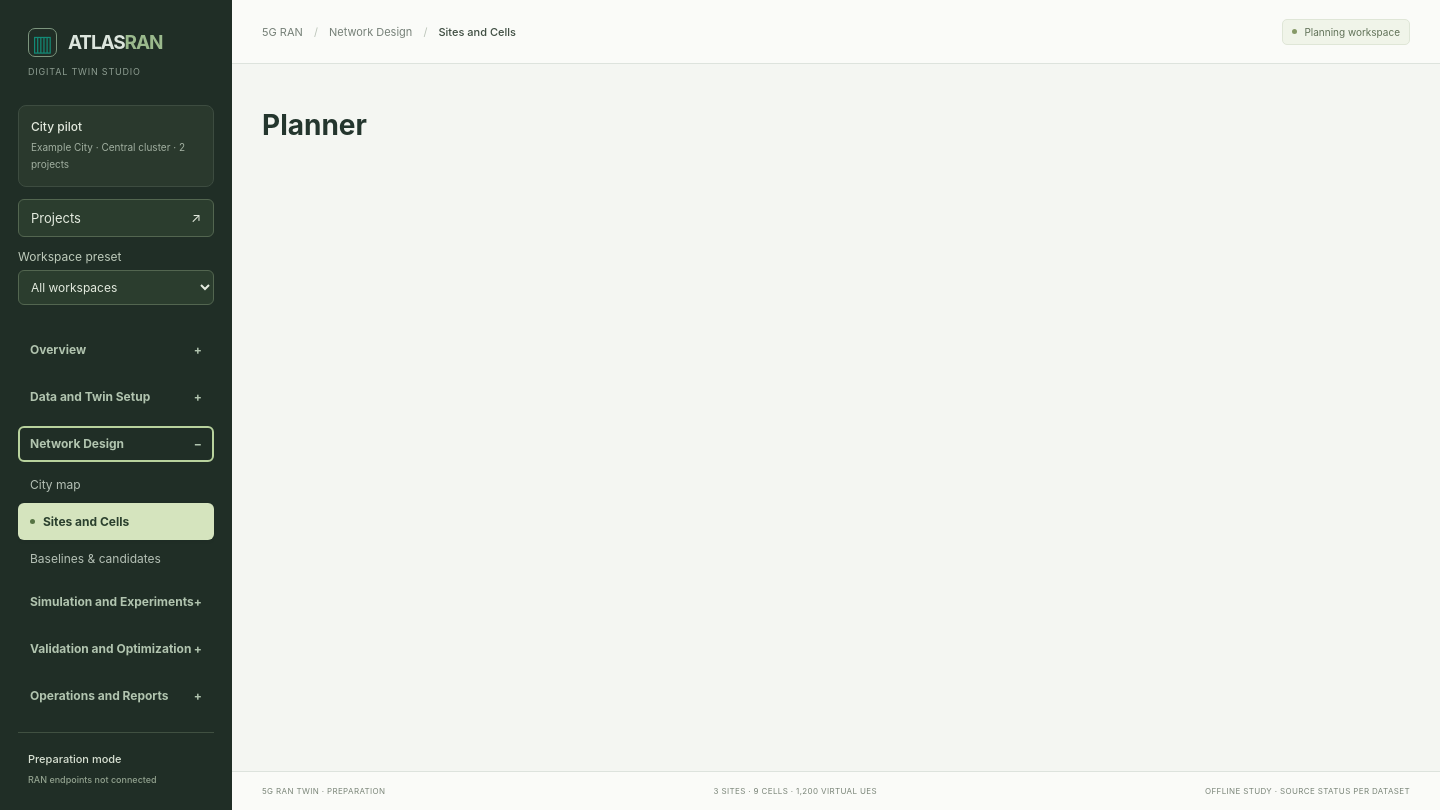
it: lifecycle workspace shell › supports keyboard operation and retains selection through role changes
Press Enter
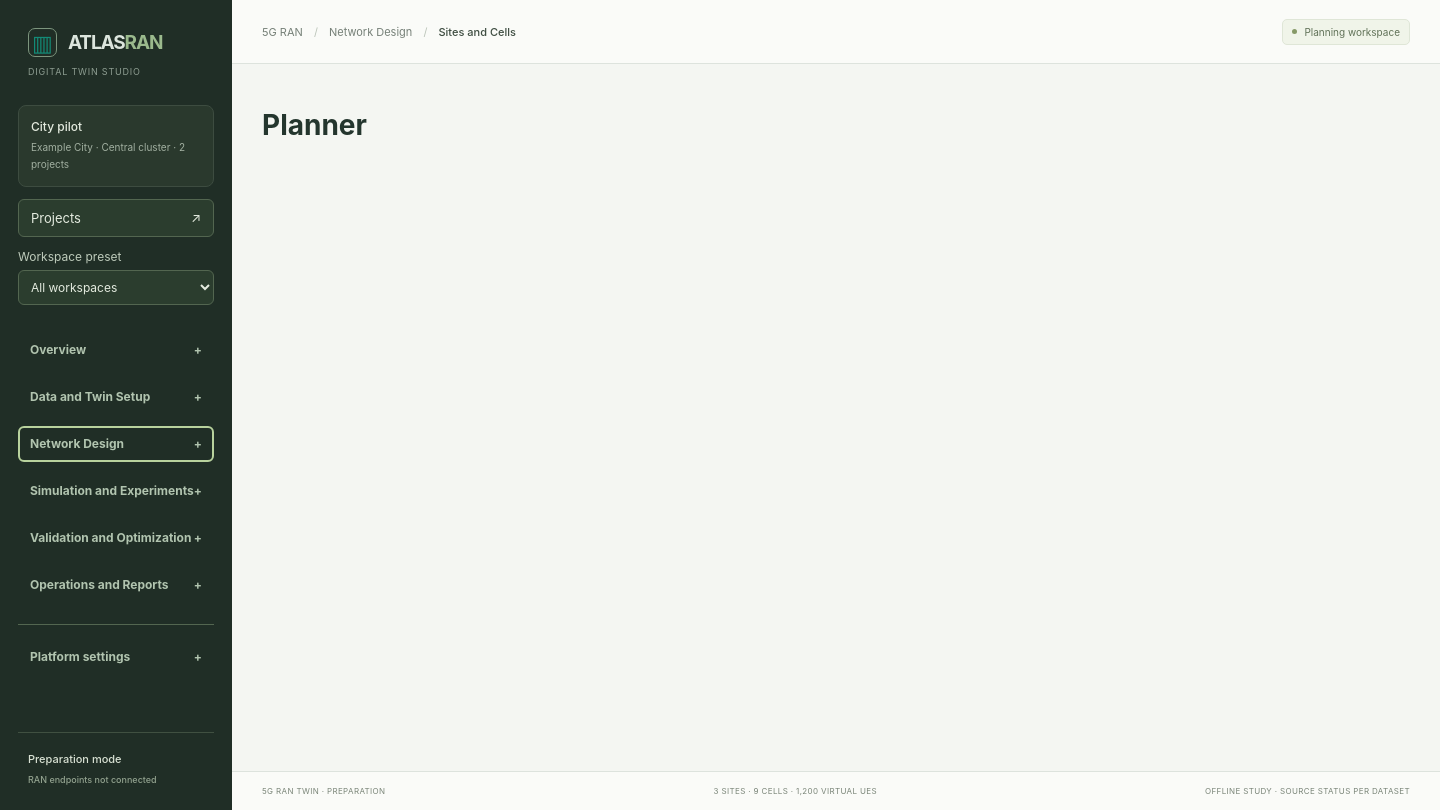
Type keys " "
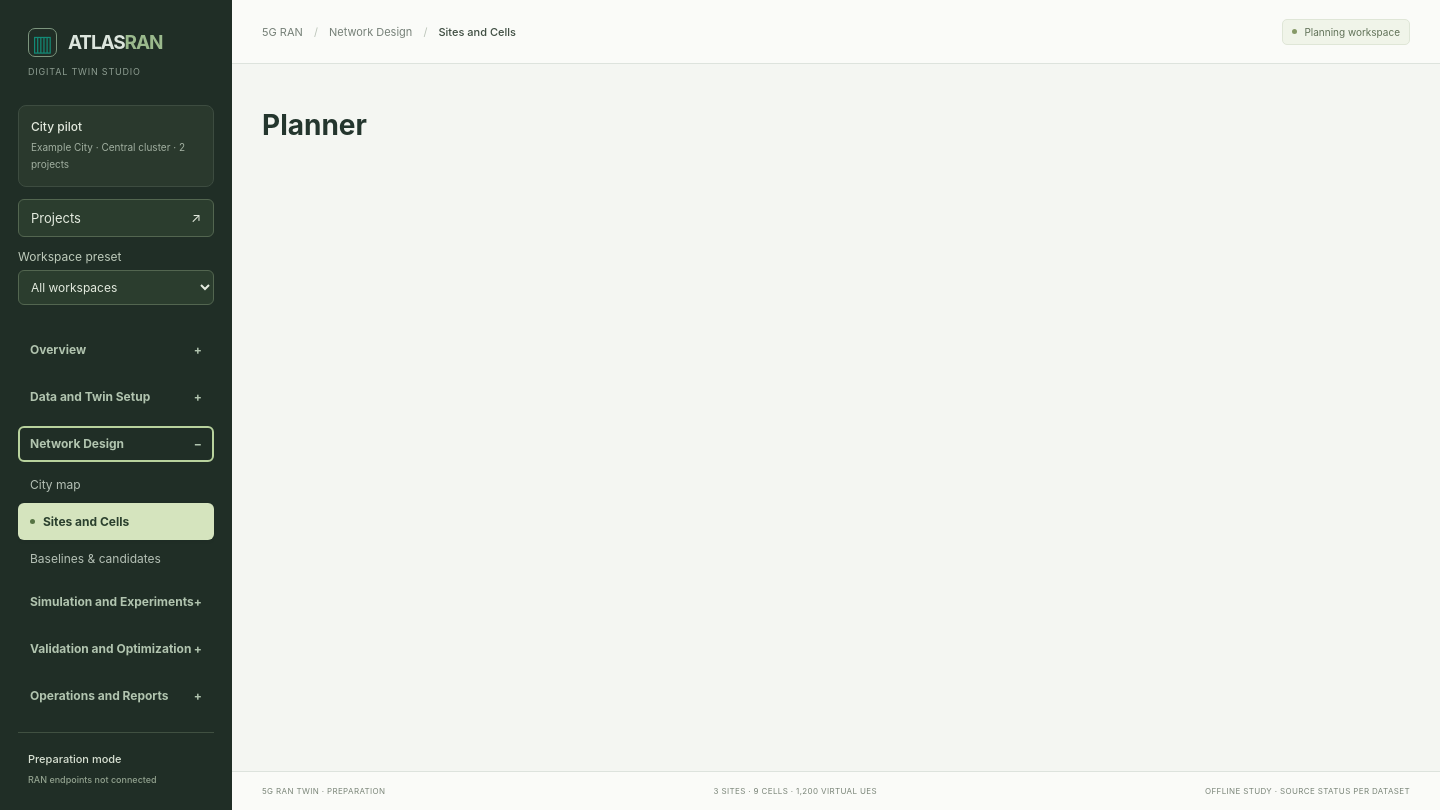
Expected: the button "Sites and Cells" is shown, 18,503 -> 214,540
Select "Operations" in the dropdown labelled "Workspace preset" at [116, 288], box 18,270 -> 214,305
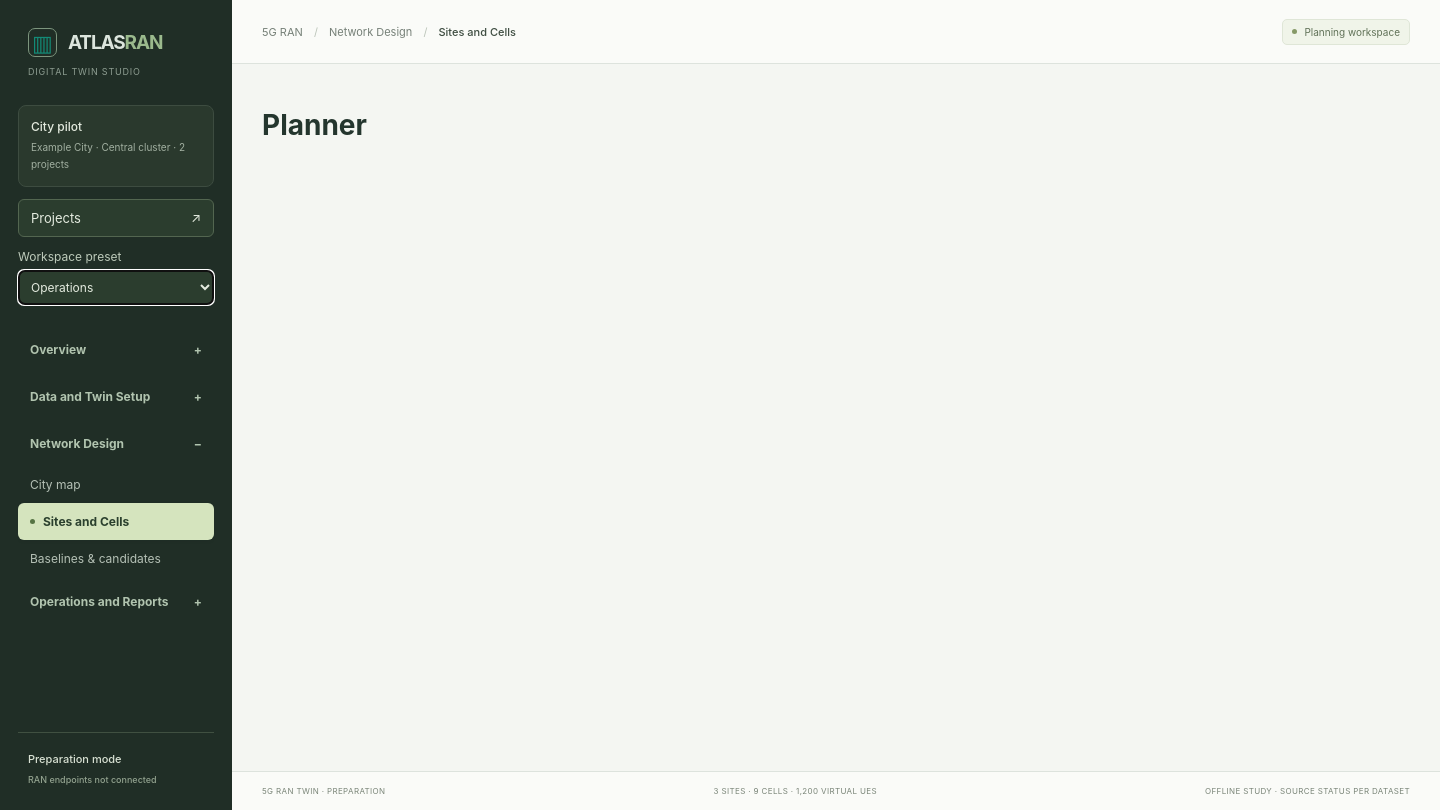
Expected: the button "Simulation and Experiments" is gone
Select "All workspaces" in the dropdown labelled "Workspace preset" at [116, 288], box 18,270 -> 214,305
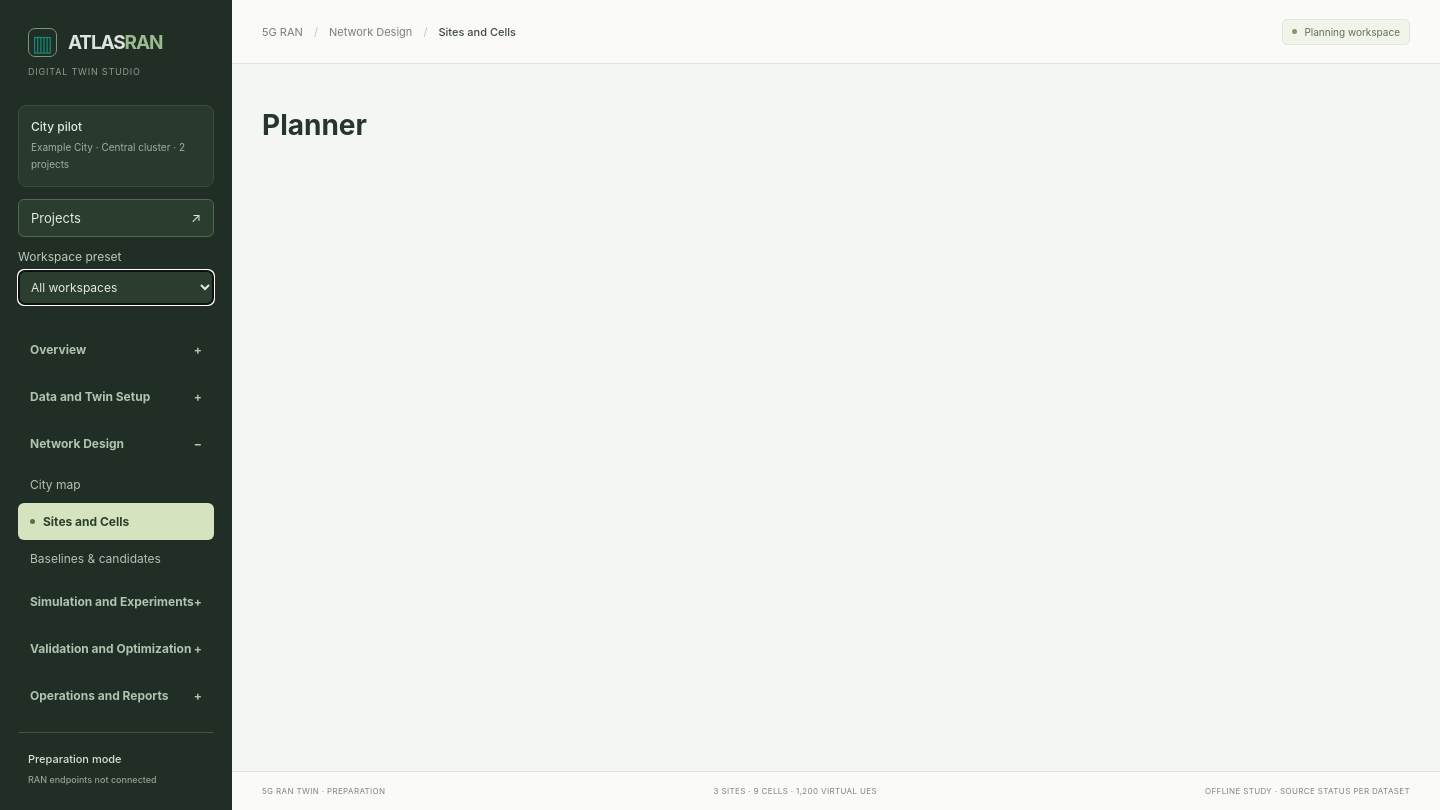
Expected: the button "Simulation and Experiments +" is shown, 18,584 -> 214,620
